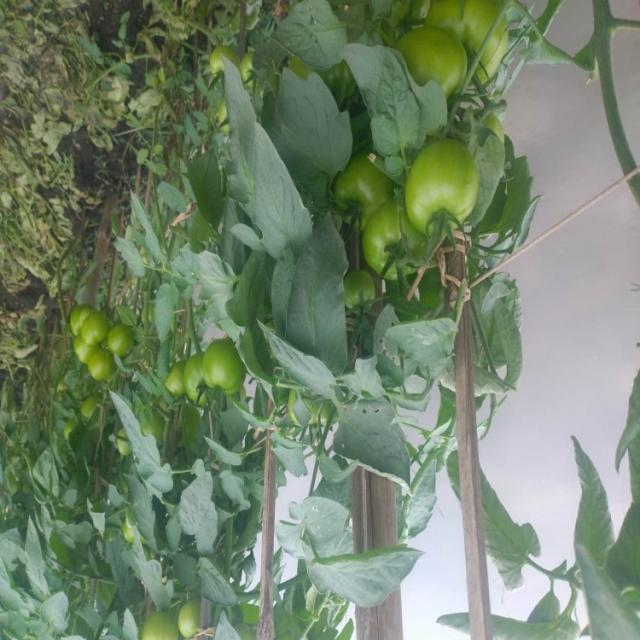tomato: (406, 121, 506, 237), (392, 22, 491, 112), (431, 1, 517, 80), (361, 203, 437, 287), (338, 152, 402, 220), (201, 343, 259, 402), (177, 360, 225, 418), (172, 589, 223, 638), (339, 263, 378, 324), (80, 347, 123, 392), (74, 302, 113, 351), (131, 607, 183, 640), (63, 339, 111, 372), (110, 323, 146, 359), (199, 42, 233, 78), (63, 305, 98, 339)
